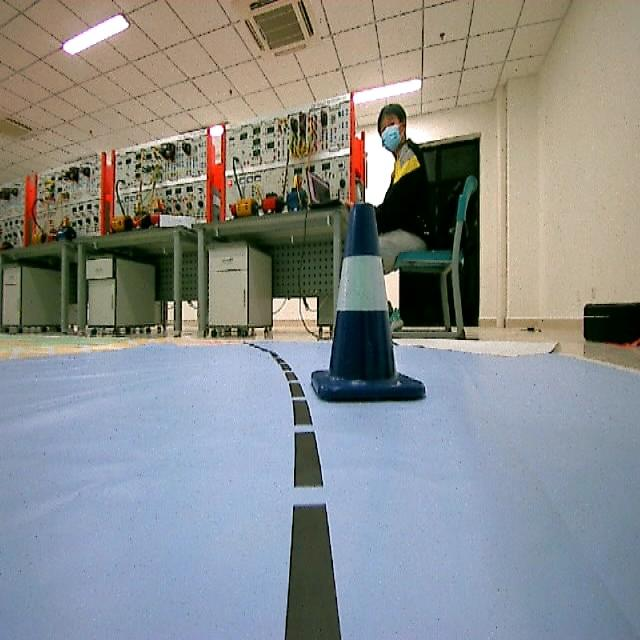obstacle: (318, 202, 430, 406)
